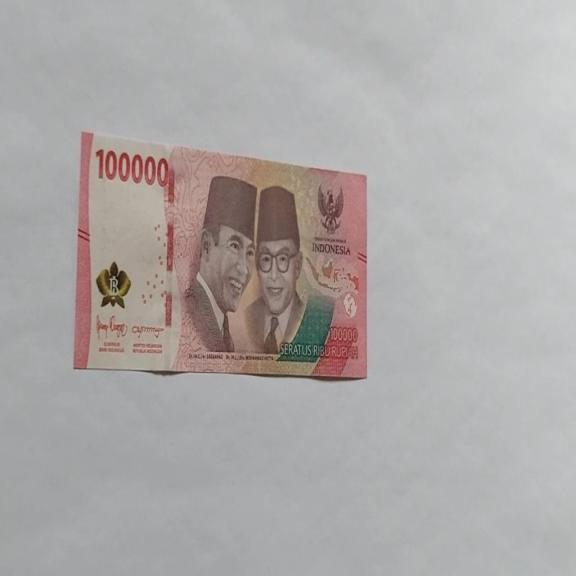Kertas: (74, 129, 368, 380), (94, 146, 170, 189)
